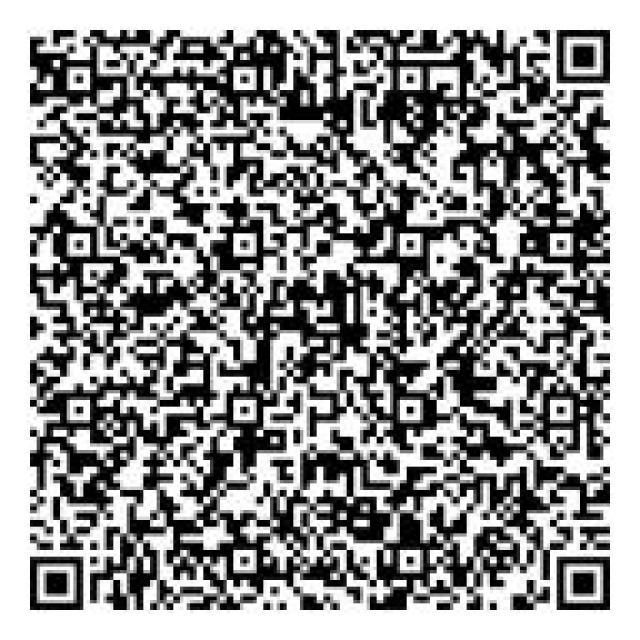QR_CODE: (17, 23, 620, 627)
